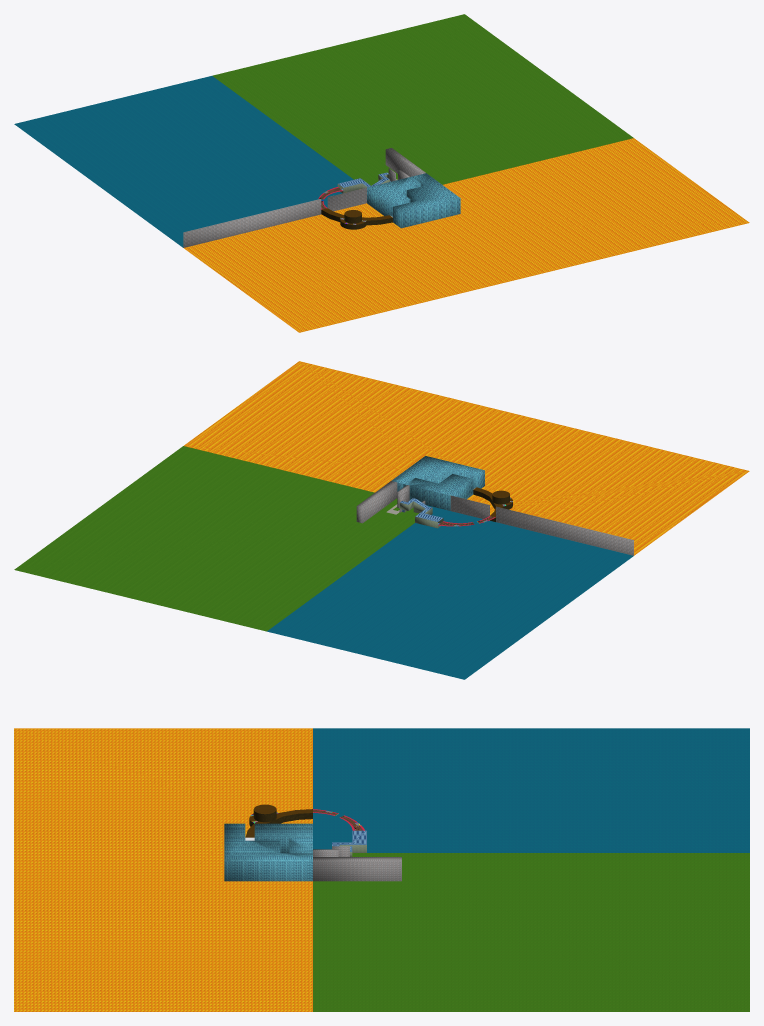
The picture shows the model from 3 angles, top to bottom: view 1: azimuth 30°, elevation 25°; view 2: azimuth 150°, elevation 25°; view 3: azimuth 270°, elevation 25°; orthographic projection. The views are drawn at different scales.
Visible parts, largest first — view 1: course_model-SKP--mat10.001, course_model-SKP--mat3.001, course_model-SKP--mat14.001, course_model-SKP--mat6.001, course_model-SKP--mat4.001; view 2: course_model-SKP--mat10.001, course_model-SKP--mat3.001, course_model-SKP--mat14.001, course_model-SKP--mat6.001, course_model-SKP--mat4.001; view 3: course_model-SKP--mat10.001, course_model-SKP--mat3.001, course_model-SKP--mat14.001, course_model-SKP--mat4.001, course_model-SKP--mat6.001, course_model-SKP--mat11.001.
Boxes of the visible parts, x1,y1,x2,y2 form: course_model-SKP--mat10.001: (184, 138, 749, 332); course_model-SKP--mat3.001: (212, 14, 633, 185); course_model-SKP--mat14.001: (14, 76, 353, 247); course_model-SKP--mat6.001: (183, 148, 425, 247); course_model-SKP--mat4.001: (367, 173, 460, 228); course_model-SKP--mat10.001: (184, 361, 749, 555); course_model-SKP--mat3.001: (14, 446, 418, 631); course_model-SKP--mat14.001: (267, 505, 633, 679); course_model-SKP--mat6.001: (356, 481, 633, 555); course_model-SKP--mat4.001: (391, 456, 484, 510); course_model-SKP--mat10.001: (14, 728, 312, 1011); course_model-SKP--mat3.001: (313, 853, 749, 1011); course_model-SKP--mat14.001: (313, 728, 749, 852); course_model-SKP--mat4.001: (224, 823, 312, 881); course_model-SKP--mat6.001: (313, 846, 401, 881); course_model-SKP--mat11.001: (245, 804, 312, 837).
Size of the model in its own units: 601355 by 20016 by 659266.
Materials: 20 (20 with a texture image).
